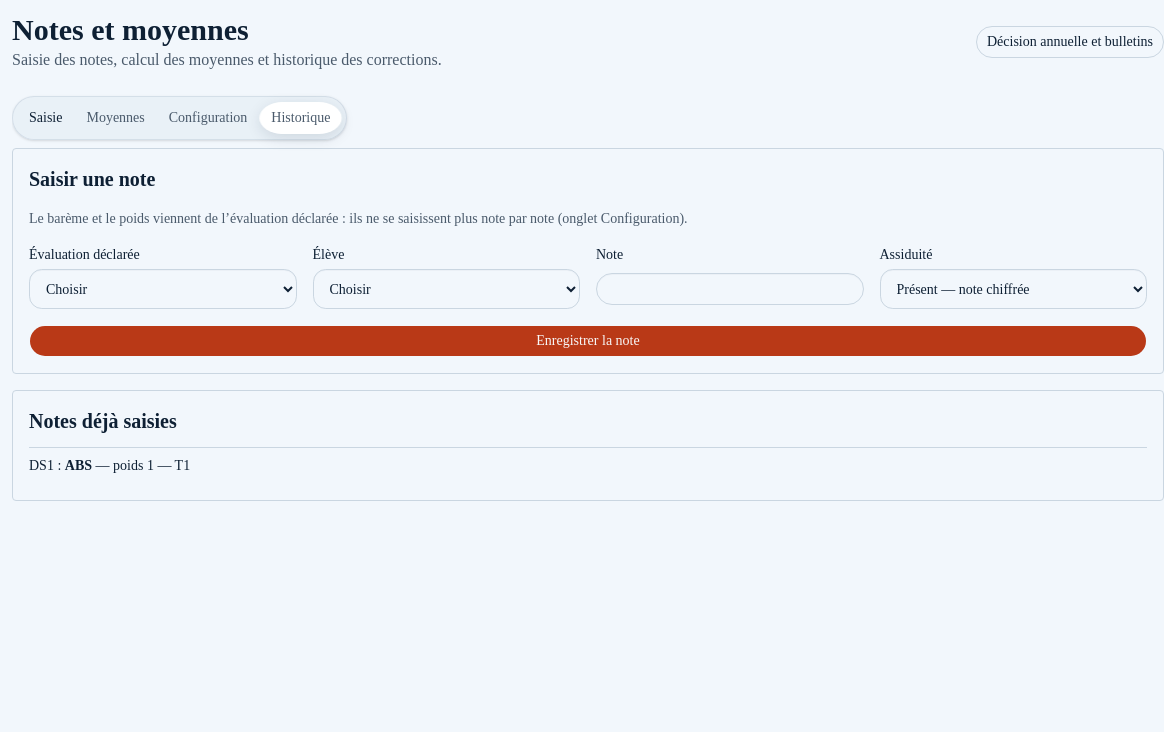
demande la moyenne au serveur depuis l’onglet moyennes
Click the tab "Moyennes" at (116, 118), box [74,102,157,134]
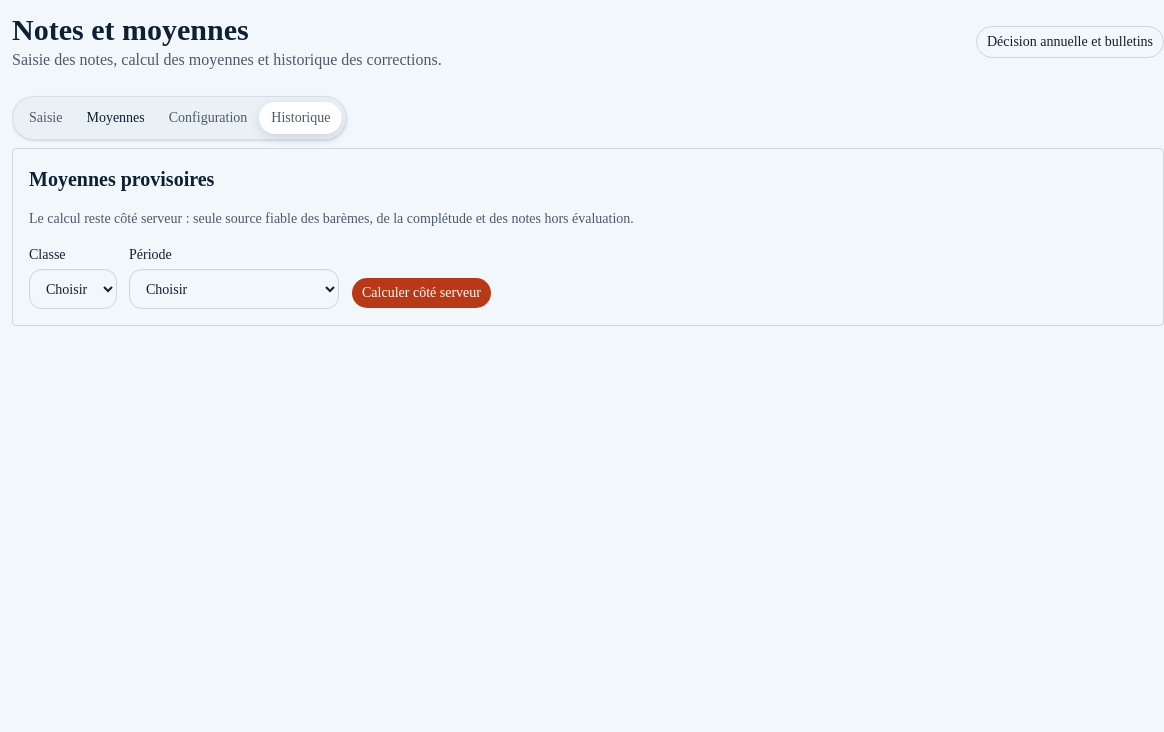
Select "CM2" in the dropdown named "classId" at (73, 289), box [29,269,117,309]
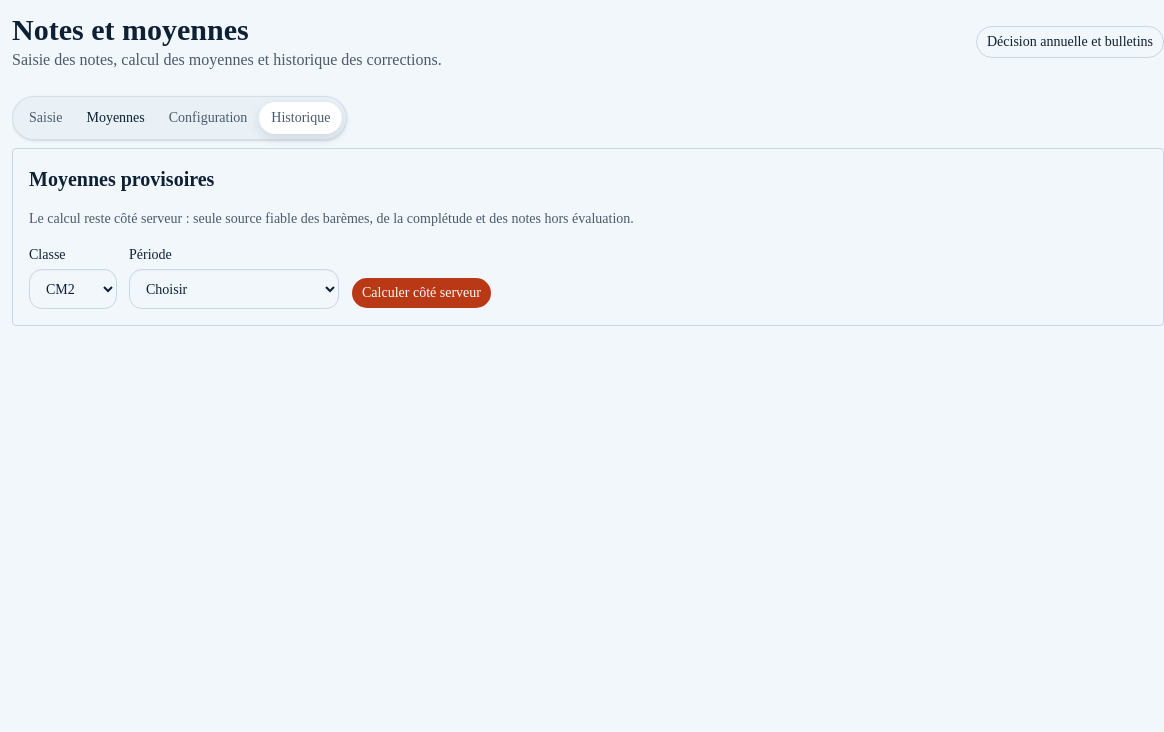
Select "T1 · 2026 · * · TRIMESTRE" in the dropdown named "periodId" at (234, 289), box [129,269,339,309]
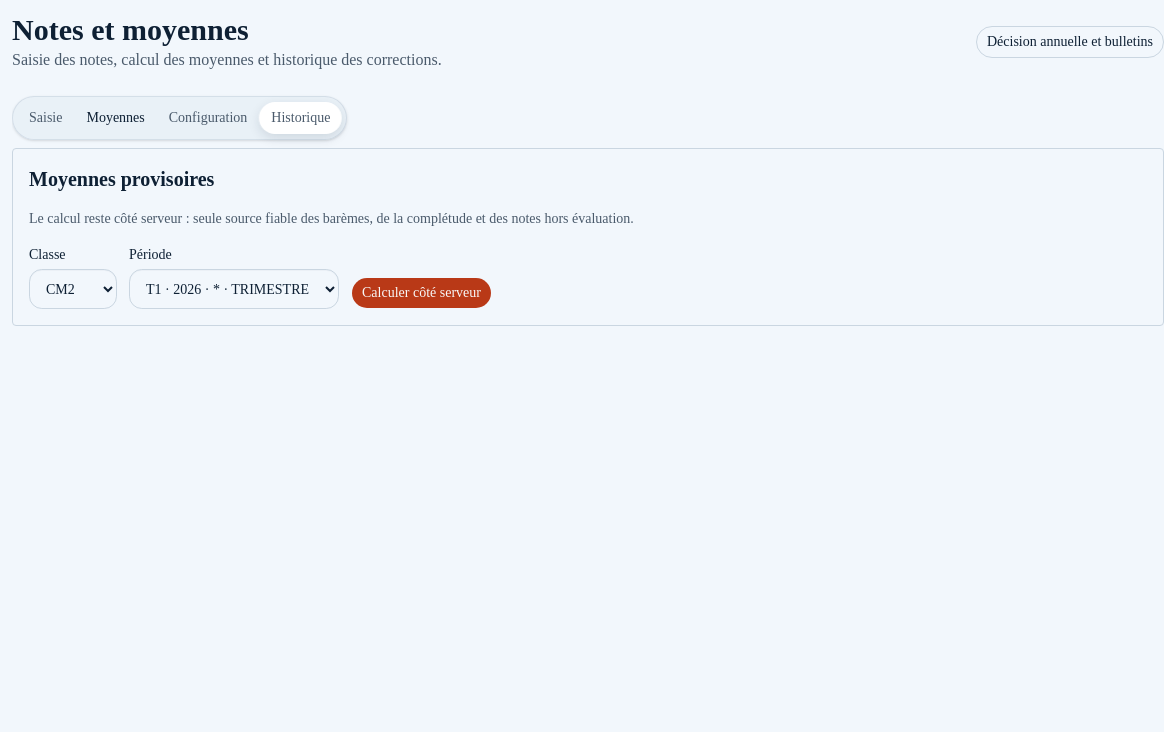
Submit the form, box [29,247,492,309]
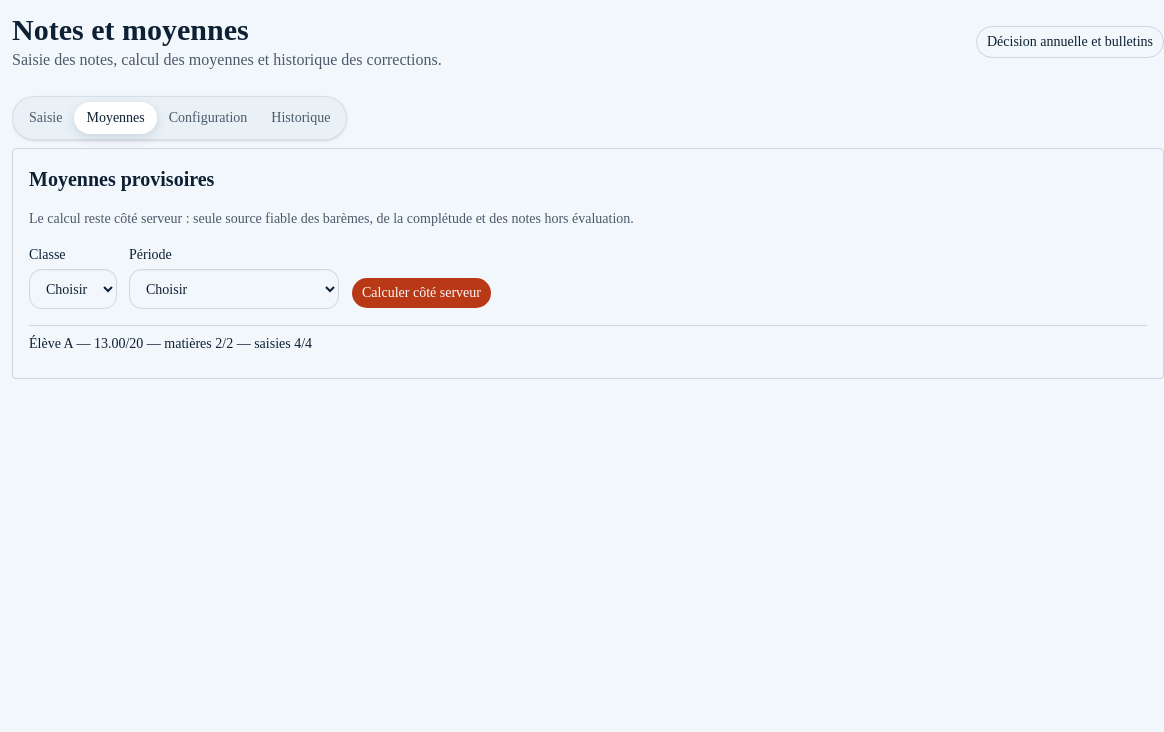
Expected: the text "13.00/20" is shown, [94,336,143,351]
Expected: the text "matières 2/2 — saisies 4/4" is shown, [29,325,1147,362]
